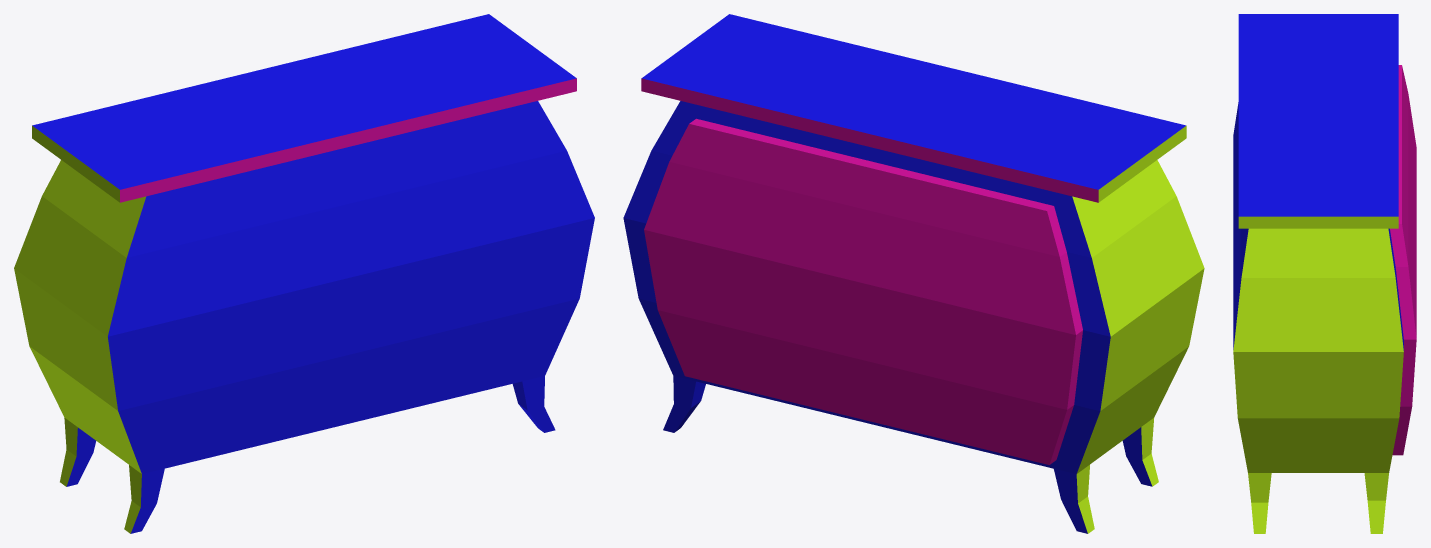
Rendered from commode.FBX.
3 views of the same model, side by side, from view 1: azimuth 30°, elevation 25°; view 2: azimuth 150°, elevation 25°; view 3: azimuth 270°, elevation 25° (orthographic). The views are drawn at different scales.
Visible parts, largest first — view 1: commode; view 2: commode; view 3: commode.
Boxes of the visible parts, x1,y1,x2,y2 form: commode: [14, 14, 594, 533]; commode: [623, 14, 1204, 533]; commode: [1233, 14, 1416, 533].
Size of the model in its own units: 140 by 97.28 by 50.07.
